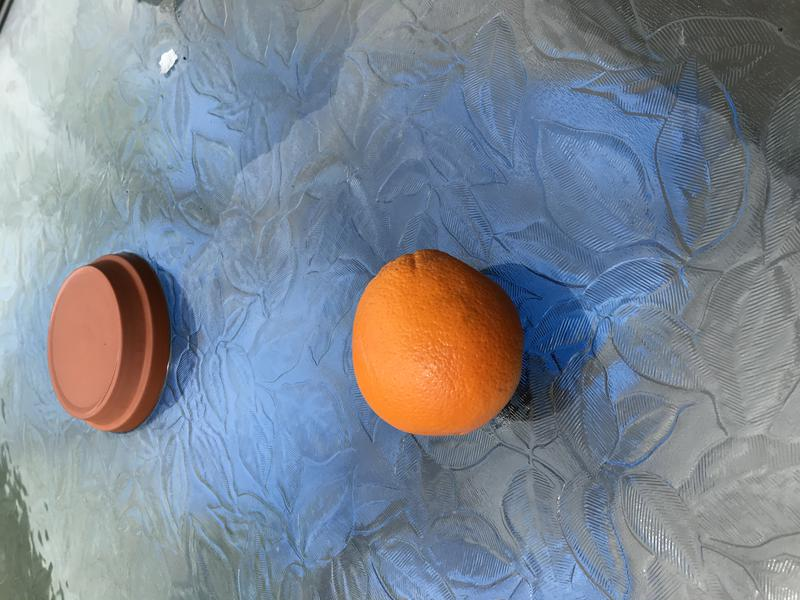orange: (344, 235, 530, 446)
